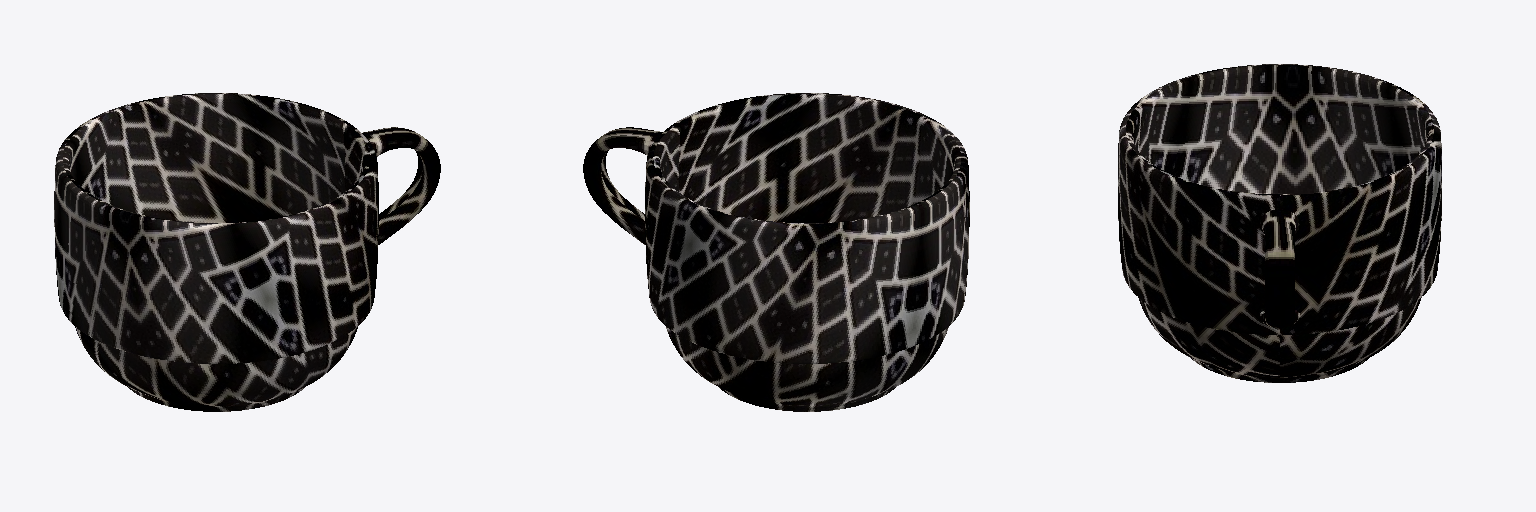
The picture shows the model from 3 angles: view 1: azimuth 30°, elevation 25°; view 2: azimuth 150°, elevation 25°; view 3: azimuth 270°, elevation 25°; orthographic projection.
Visible parts, largest first — view 1: Cup; view 2: Cup; view 3: Cup.
Part boxes in pixels (left/top/right/bottom): Cup: left=54, top=93, right=440, bottom=411; Cup: left=583, top=93, right=969, bottom=411; Cup: left=1118, top=64, right=1441, bottom=382.
Bounding box in the file's own units: 5.94 × 3.37 × 4.64.
Materials: 1 (1 with a texture image).